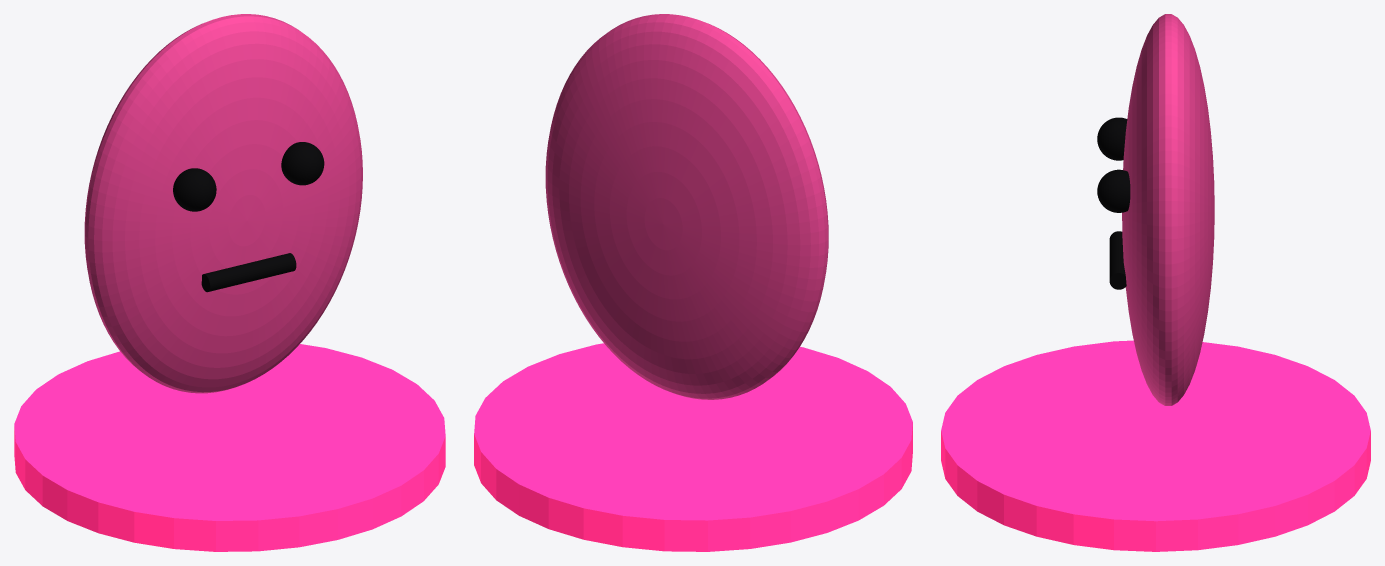
The model's file is beauty_face_mask.dae.
The picture shows the model from 3 angles, left to right: view 1: azimuth 30°, elevation 25°; view 2: azimuth 150°, elevation 25°; view 3: azimuth 270°, elevation 25°; orthographic projection. The views are drawn at different scales.
Visible parts, largest first — view 1: 03_17_Popular_Beauty_Face_Mask_part_01, 03_17_Popular_Beauty_Face_Mask_ROOT_base, 03_17_Popular_Beauty_Face_Mask_part_04, 03_17_Popular_Beauty_Face_Mask_part_02, 03_17_Popular_Beauty_Face_Mask_part_03; view 2: 03_17_Popular_Beauty_Face_Mask_part_01, 03_17_Popular_Beauty_Face_Mask_ROOT_base; view 3: 03_17_Popular_Beauty_Face_Mask_ROOT_base, 03_17_Popular_Beauty_Face_Mask_part_01, 03_17_Popular_Beauty_Face_Mask_part_03, 03_17_Popular_Beauty_Face_Mask_part_02, 03_17_Popular_Beauty_Face_Mask_part_04.
Boxes of the visible parts, x1=… form: 03_17_Popular_Beauty_Face_Mask_part_01: x1=84, y1=14, x2=362, y2=393; 03_17_Popular_Beauty_Face_Mask_ROOT_base: x1=14, y1=344, x2=445, y2=551; 03_17_Popular_Beauty_Face_Mask_part_04: x1=201, y1=253, x2=296, y2=292; 03_17_Popular_Beauty_Face_Mask_part_02: x1=173, y1=168, x2=216, y2=211; 03_17_Popular_Beauty_Face_Mask_part_03: x1=281, y1=142, x2=324, y2=185; 03_17_Popular_Beauty_Face_Mask_part_01: x1=545, y1=14, x2=828, y2=399; 03_17_Popular_Beauty_Face_Mask_ROOT_base: x1=474, y1=343, x2=912, y2=551; 03_17_Popular_Beauty_Face_Mask_ROOT_base: x1=941, y1=340, x2=1370, y2=551; 03_17_Popular_Beauty_Face_Mask_part_01: x1=1122, y1=14, x2=1214, y2=405; 03_17_Popular_Beauty_Face_Mask_part_03: x1=1097, y1=169, x2=1130, y2=212; 03_17_Popular_Beauty_Face_Mask_part_02: x1=1097, y1=117, x2=1127, y2=160; 03_17_Popular_Beauty_Face_Mask_part_04: x1=1109, y1=231, x2=1126, y2=289.
Size of the model in its own units: 0.76 by 0.85 by 0.76.
